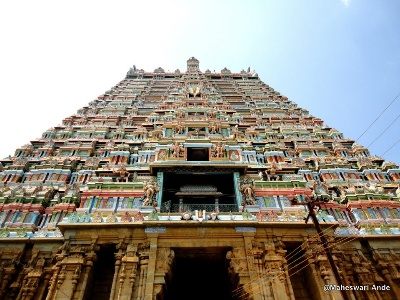gopura: (3, 57, 390, 229)
